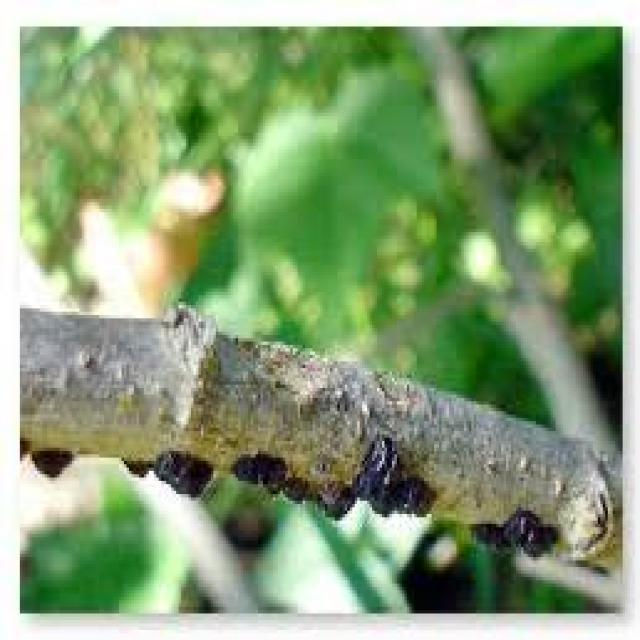BlackScale: (230, 437, 440, 522), (468, 508, 558, 564), (121, 451, 218, 496), (24, 451, 74, 487)
